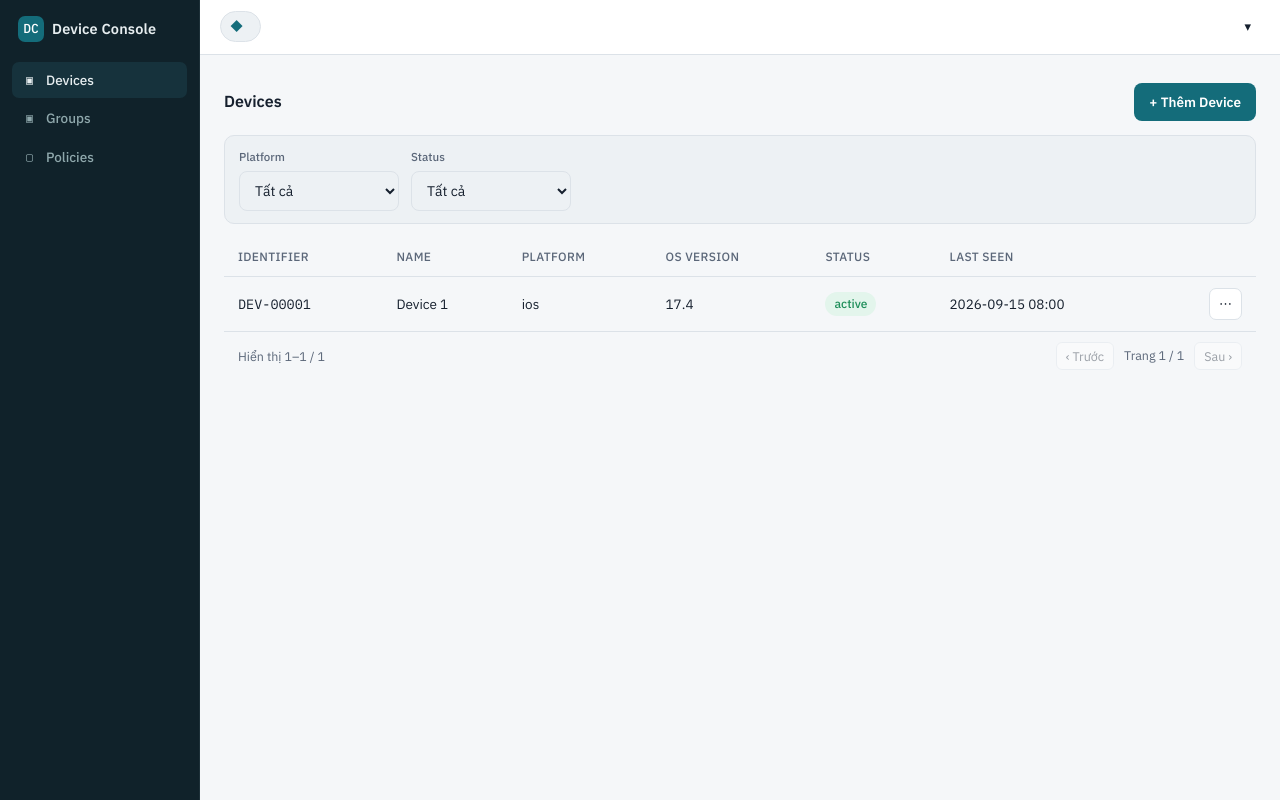
Test: DeviceListView › create/edit modal (F3) › opens the create modal from the list-head "+ Thêm Device" button
The image size is (1280, 800).
Click the button with test id "add-device-button".
click(1195, 102)  # box [1134,82,1256,121]
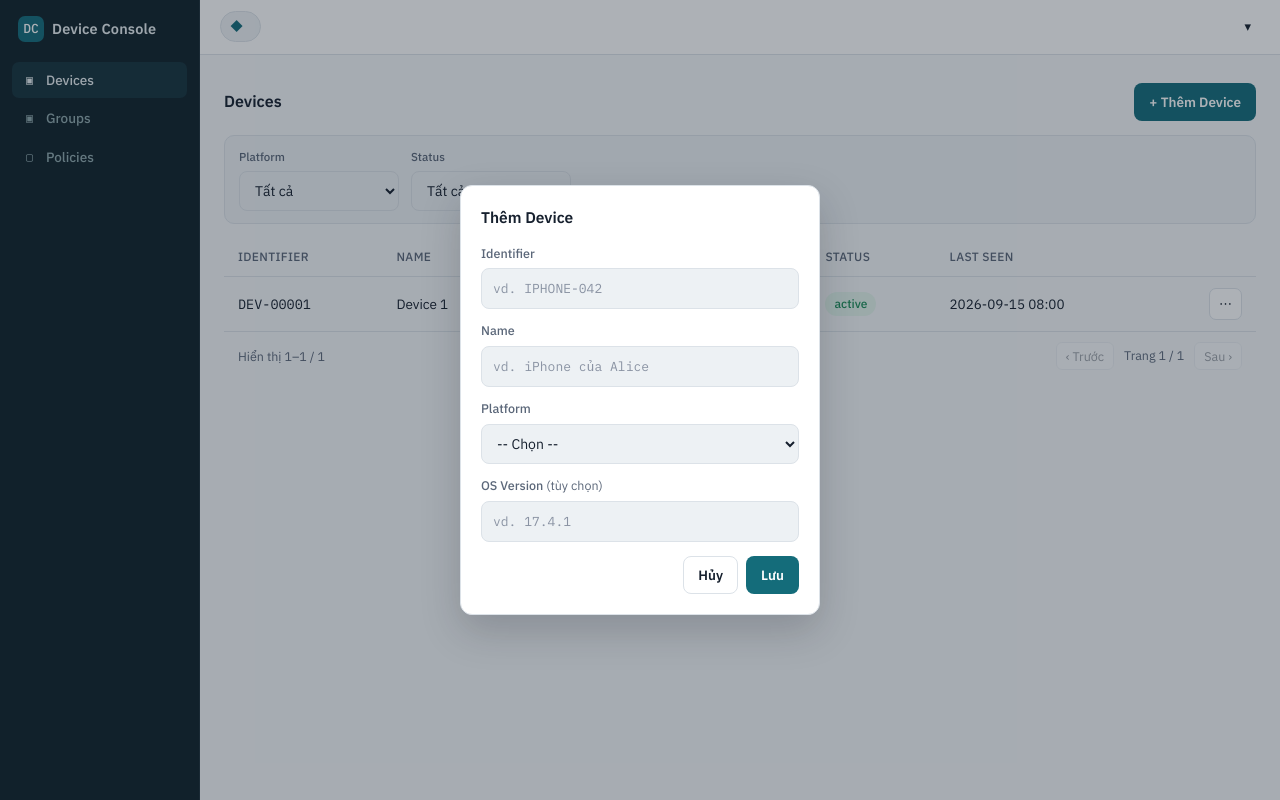
Expected: the element with test id "device-form-modal" is shown
Expected: the field with test id "device-form-identifier" is empty, [481,268,799,309]
